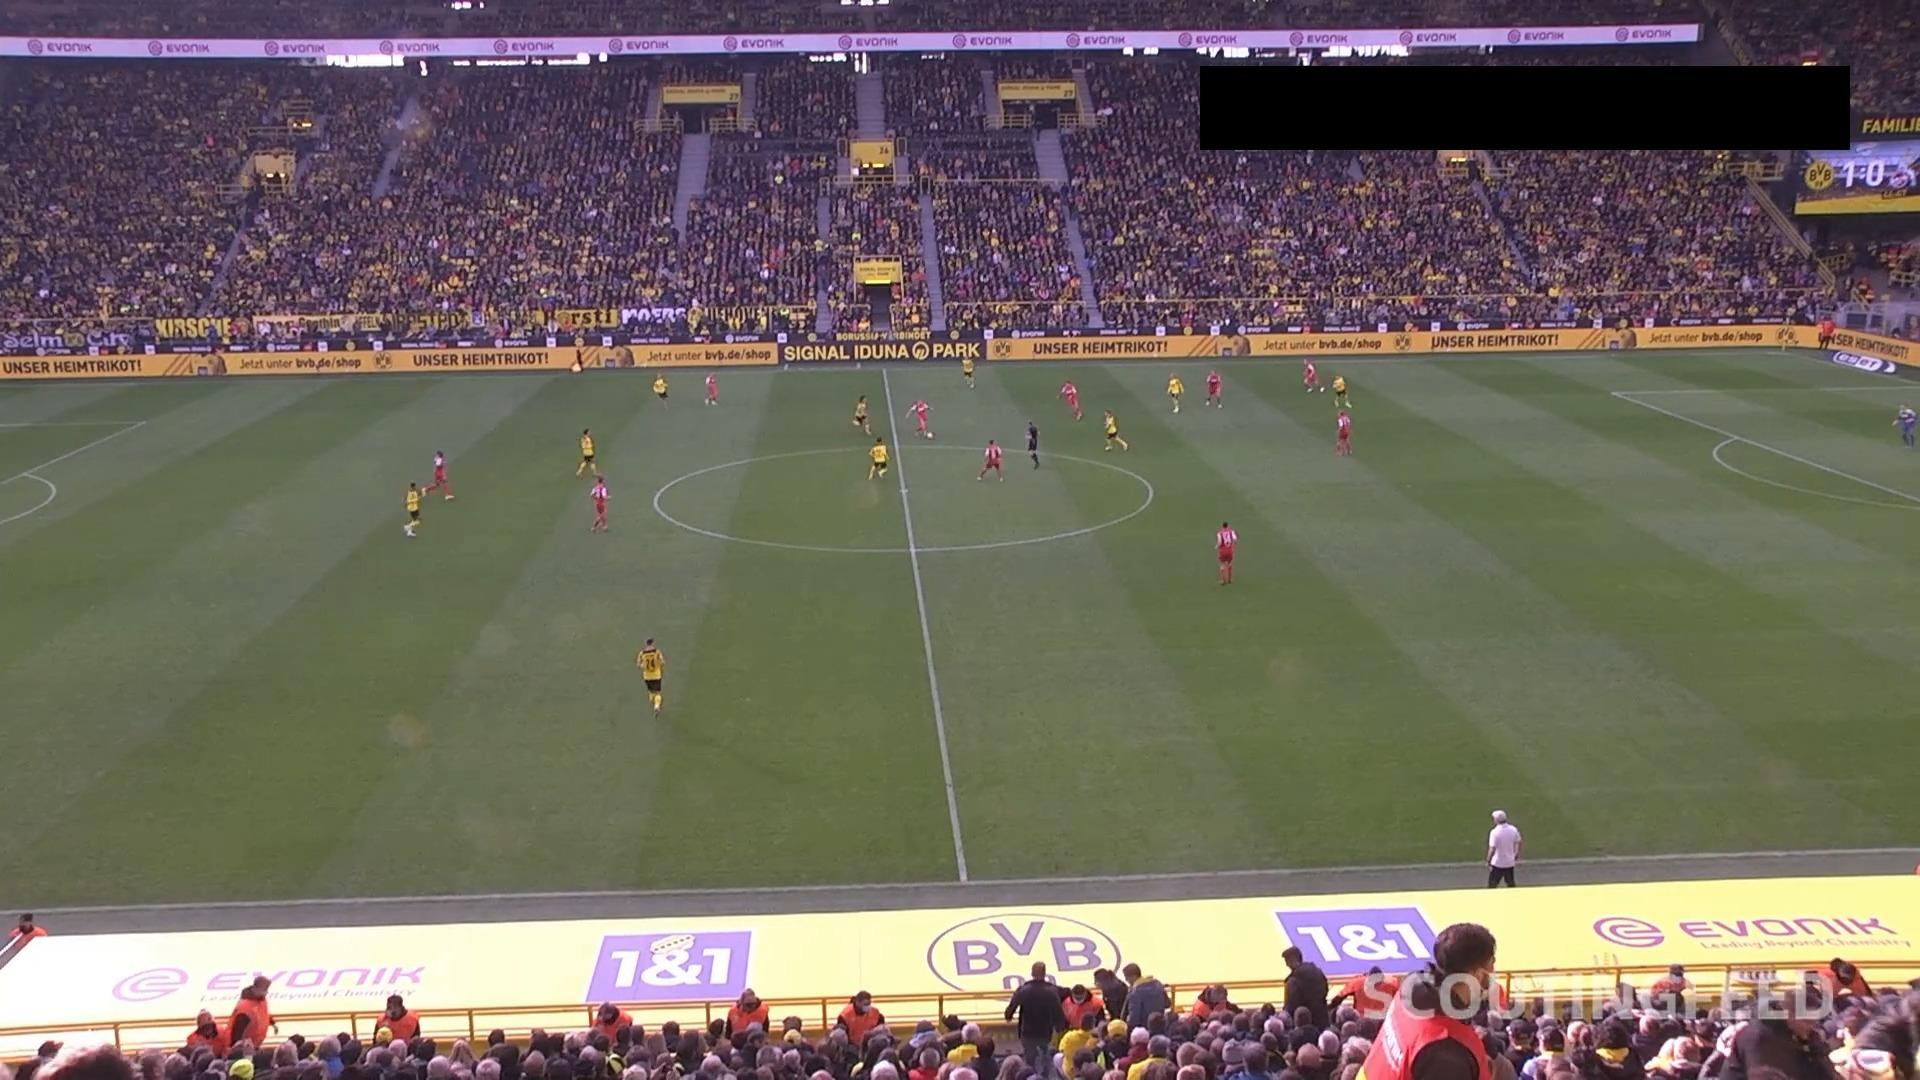ball: (926, 430, 935, 440)
